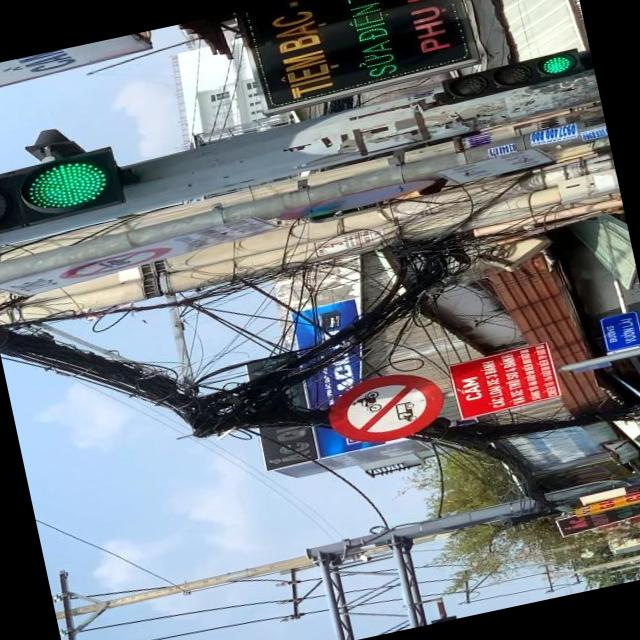P-104: (320, 364, 450, 451)
